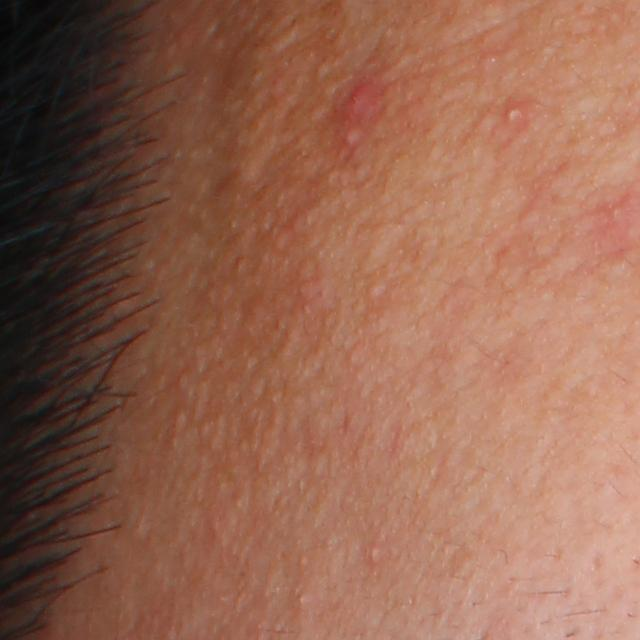comedo: (364, 542, 381, 562), (367, 282, 383, 301)
papule: (335, 82, 379, 124)
